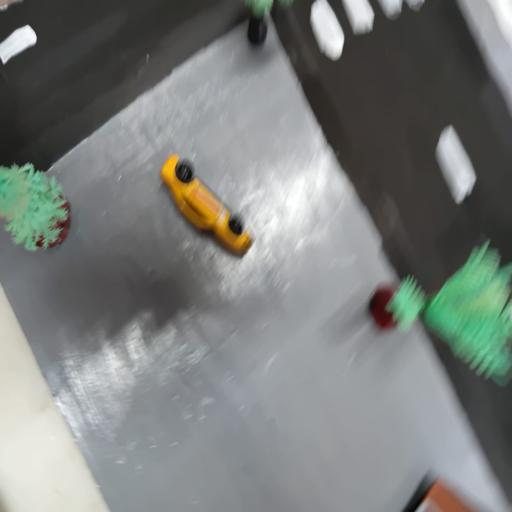car crash: (148, 142, 270, 278)
